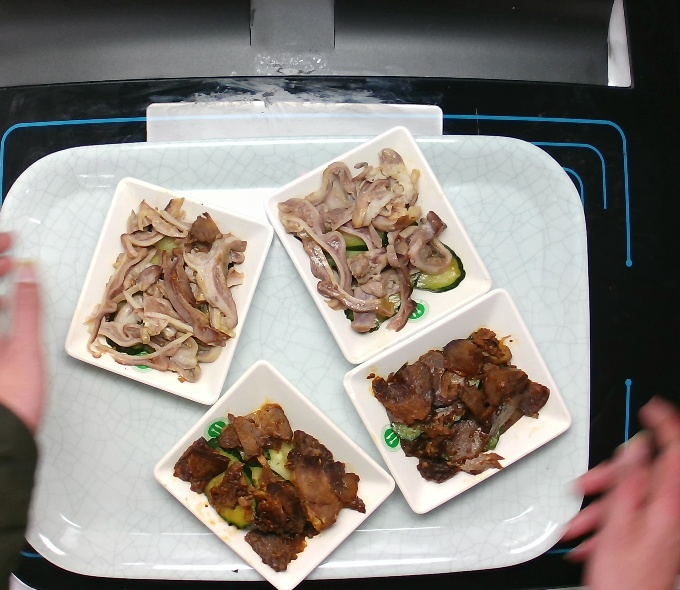wcq-JiangNiuRou: (166, 396, 371, 579), (361, 324, 558, 490)
wcq-ZhuDu: (274, 143, 469, 341), (77, 192, 254, 389)
